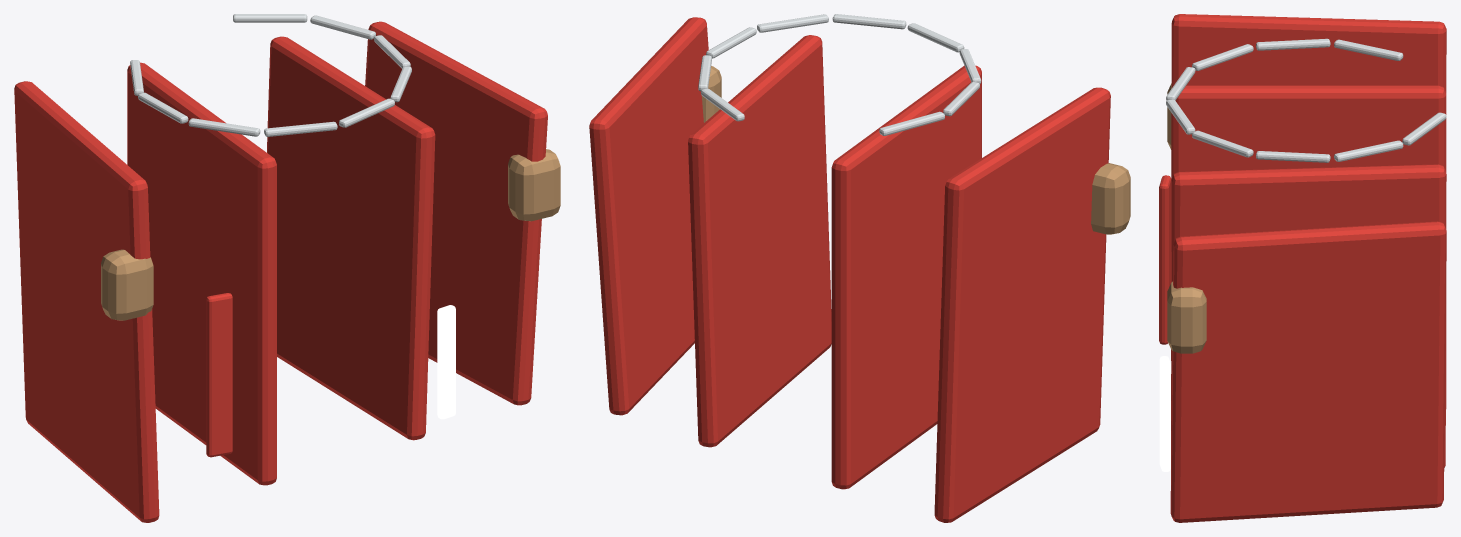
Rendered from cult_outer_altar_ward.glb.
3 renders of one model, left to right at view 1: azimuth 30°, elevation 25°; view 2: azimuth 150°, elevation 25°; view 3: azimuth 270°, elevation 25°, orthographic.
Visible parts, largest first — view 1: CULT_OUTER_ALTAR_WARD__Bindings_3, CULT_OUTER_ALTAR_WARD__Bindings_1, CULT_OUTER_ALTAR_WARD__Bindings_2, CULT_OUTER_ALTAR_WARD__Bindings_4, CULT_OUTER_ALTAR_WARD__Fluid_Climb_L, CULT_OUTER_ALTAR_WARD__Clamp_1, CULT_OUTER_ALTAR_WARD__Clamp_2, CULT_OUTER_ALTAR_WARD__Fluid_Climb_R, CULT_OUTER_ALTAR_WARD__Chalk_BrokenCircle_06, CULT_OUTER_ALTAR_WARD__Chalk_BrokenCircle_01, CULT_OUTER_ALTAR_WARD__Chalk_BrokenCircle_07, CULT_OUTER_ALTAR_WARD__Chalk_BrokenCircle_02; view 2: CULT_OUTER_ALTAR_WARD__Bindings_1, CULT_OUTER_ALTAR_WARD__Bindings_3, CULT_OUTER_ALTAR_WARD__Bindings_2, CULT_OUTER_ALTAR_WARD__Bindings_4, CULT_OUTER_ALTAR_WARD__Clamp_1, CULT_OUTER_ALTAR_WARD__Chalk_BrokenCircle_05, CULT_OUTER_ALTAR_WARD__Chalk_BrokenCircle_04, CULT_OUTER_ALTAR_WARD__Chalk_BrokenCircle_09; view 3: CULT_OUTER_ALTAR_WARD__Bindings_4, CULT_OUTER_ALTAR_WARD__Bindings_2, CULT_OUTER_ALTAR_WARD__Bindings_3, CULT_OUTER_ALTAR_WARD__Bindings_1, CULT_OUTER_ALTAR_WARD__Clamp_2, CULT_OUTER_ALTAR_WARD__Fluid_Climb_L, CULT_OUTER_ALTAR_WARD__Fluid_Climb_R, CULT_OUTER_ALTAR_WARD__Chalk_BrokenCircle_08, CULT_OUTER_ALTAR_WARD__Chalk_BrokenCircle_03, CULT_OUTER_ALTAR_WARD__Chalk_BrokenCircle_02, CULT_OUTER_ALTAR_WARD__Chalk_BrokenCircle_09, CULT_OUTER_ALTAR_WARD__Chalk_BrokenCircle_04 (+4 smaller).
Part boxes in pixels (box(x1,y1,x2,y2)): CULT_OUTER_ALTAR_WARD__Bindings_3: box(267, 36, 435, 440); CULT_OUTER_ALTAR_WARD__Bindings_1: box(14, 81, 159, 522); CULT_OUTER_ALTAR_WARD__Bindings_2: box(127, 62, 276, 485); CULT_OUTER_ALTAR_WARD__Bindings_4: box(365, 21, 547, 405); CULT_OUTER_ALTAR_WARD__Fluid_Climb_L: box(206, 293, 232, 457); CULT_OUTER_ALTAR_WARD__Clamp_1: box(101, 249, 153, 320); CULT_OUTER_ALTAR_WARD__Clamp_2: box(508, 149, 560, 221); CULT_OUTER_ALTAR_WARD__Fluid_Climb_R: box(437, 305, 455, 419); CULT_OUTER_ALTAR_WARD__Chalk_BrokenCircle_06: box(264, 121, 337, 136); CULT_OUTER_ALTAR_WARD__Chalk_BrokenCircle_01: box(233, 14, 307, 22); CULT_OUTER_ALTAR_WARD__Chalk_BrokenCircle_07: box(188, 118, 260, 136); CULT_OUTER_ALTAR_WARD__Chalk_BrokenCircle_02: box(310, 15, 375, 39); CULT_OUTER_ALTAR_WARD__Bindings_1: box(934, 87, 1110, 522); CULT_OUTER_ALTAR_WARD__Bindings_3: box(688, 35, 831, 447); CULT_OUTER_ALTAR_WARD__Bindings_2: box(831, 65, 981, 489); CULT_OUTER_ALTAR_WARD__Bindings_4: box(589, 17, 708, 415); CULT_OUTER_ALTAR_WARD__Clamp_1: box(1091, 163, 1130, 234); CULT_OUTER_ALTAR_WARD__Chalk_BrokenCircle_05: box(832, 14, 906, 29); CULT_OUTER_ALTAR_WARD__Chalk_BrokenCircle_04: box(757, 14, 828, 32); CULT_OUTER_ALTAR_WARD__Chalk_BrokenCircle_09: box(879, 111, 944, 135); CULT_OUTER_ALTAR_WARD__Bindings_4: box(1170, 221, 1446, 522); CULT_OUTER_ALTAR_WARD__Bindings_2: box(1171, 85, 1446, 408); CULT_OUTER_ALTAR_WARD__Bindings_3: box(1171, 164, 1446, 467); CULT_OUTER_ALTAR_WARD__Bindings_1: box(1171, 14, 1446, 360); CULT_OUTER_ALTAR_WARD__Clamp_2: box(1167, 281, 1206, 353); CULT_OUTER_ALTAR_WARD__Fluid_Climb_L: box(1159, 175, 1171, 344); CULT_OUTER_ALTAR_WARD__Fluid_Climb_R: box(1159, 356, 1170, 471); CULT_OUTER_ALTAR_WARD__Chalk_BrokenCircle_08: box(1256, 38, 1330, 50); CULT_OUTER_ALTAR_WARD__Chalk_BrokenCircle_03: box(1256, 151, 1330, 162); CULT_OUTER_ALTAR_WARD__Chalk_BrokenCircle_02: box(1334, 140, 1403, 161); CULT_OUTER_ALTAR_WARD__Chalk_BrokenCircle_09: box(1334, 39, 1403, 60); CULT_OUTER_ALTAR_WARD__Chalk_BrokenCircle_04: box(1192, 130, 1253, 157).
Bounding box in the file's own units: 1.33 × 1.01 × 0.7321.
